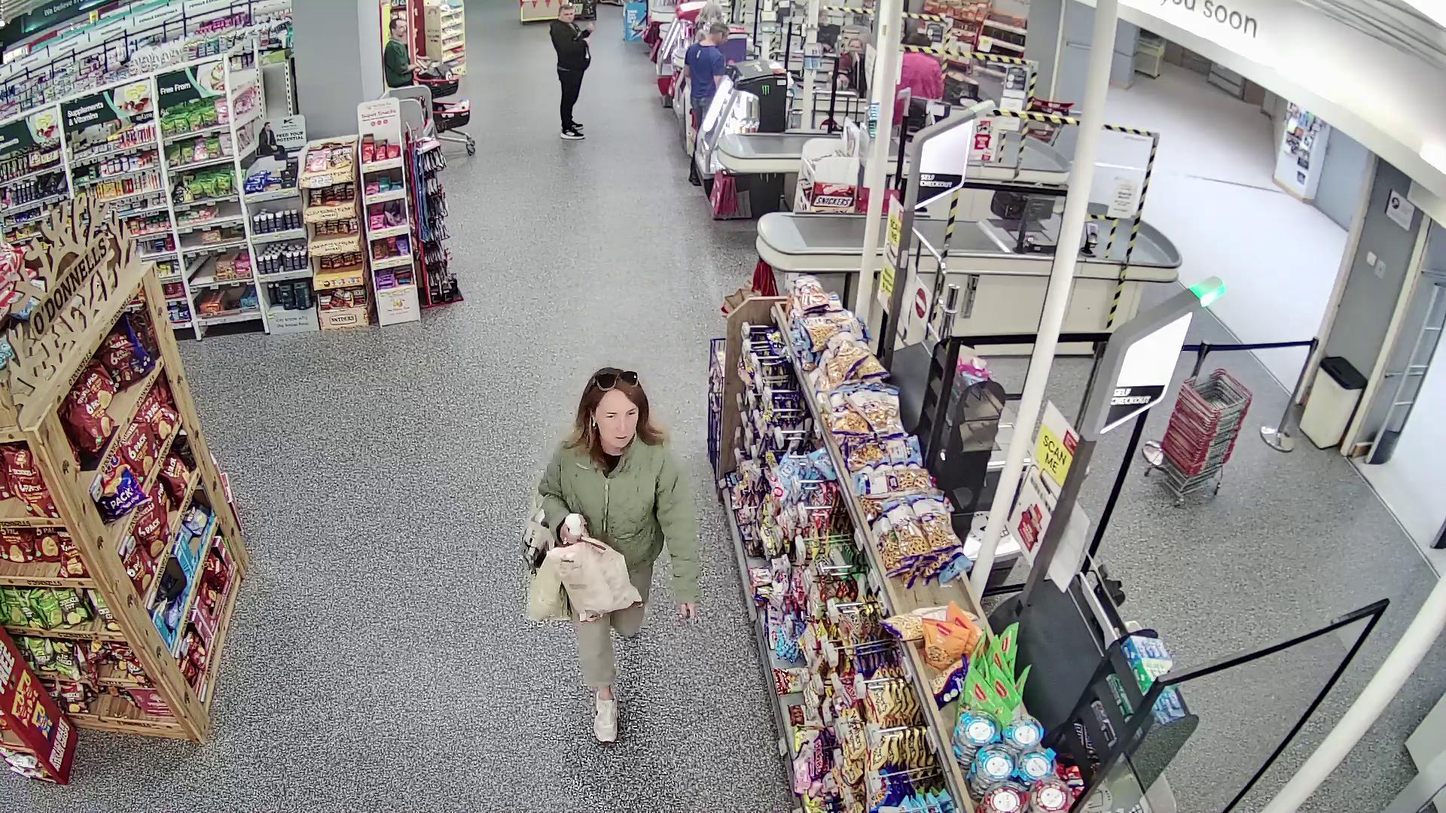carrying-item: (551, 536, 644, 624)
filled-shopping-bags: (520, 487, 570, 625)
person: (532, 365, 700, 740)
person with carrying item-s- and shopping bag-s-: (522, 365, 702, 738)
